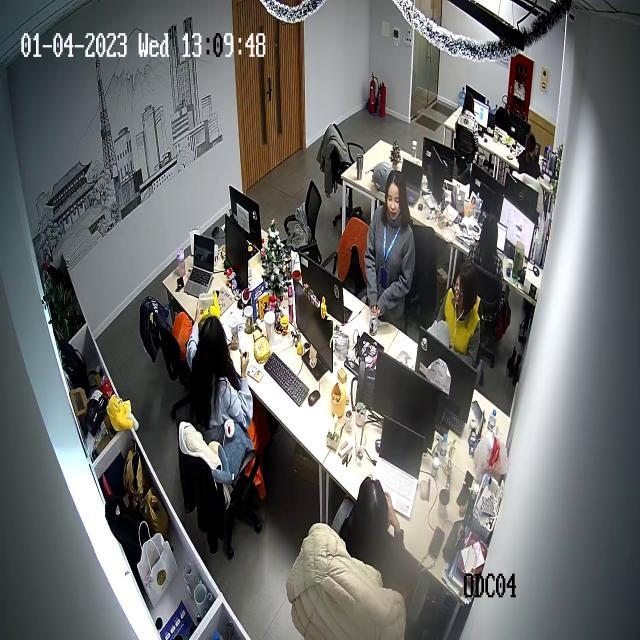person: (189, 313, 256, 467), (365, 168, 416, 328), (340, 476, 410, 585), (432, 262, 482, 364), (465, 215, 504, 276), (520, 132, 541, 177), (458, 91, 479, 135)
